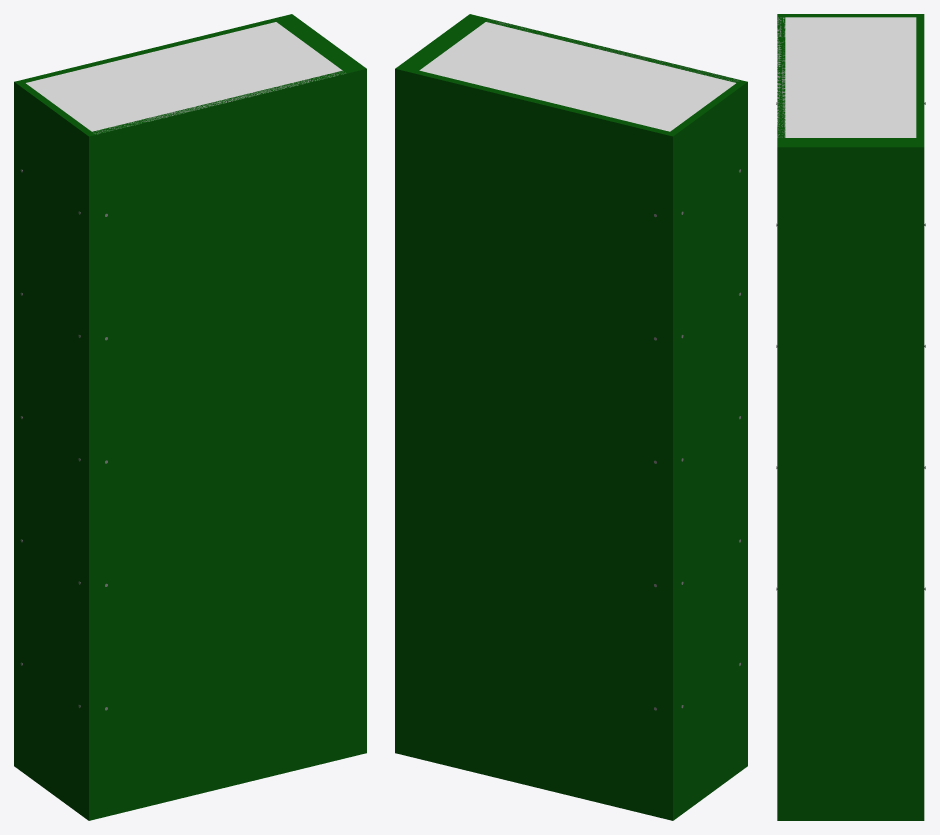
The model's file is Podiezd.fbx.
3 renders of one model, left to right at view 1: azimuth 30°, elevation 25°; view 2: azimuth 150°, elevation 25°; view 3: azimuth 270°, elevation 25°, orthographic.
Visible parts, largest first — view 1: Plane.004; view 2: Plane.004; view 3: Plane.004.
Boxes of the visible parts, x1,y1,x2,y2 form: Plane.004: (14, 14, 366, 820); Plane.004: (395, 14, 747, 820); Plane.004: (776, 14, 925, 820).
Size of the model in its own units: 1772 by 4156 by 836.
